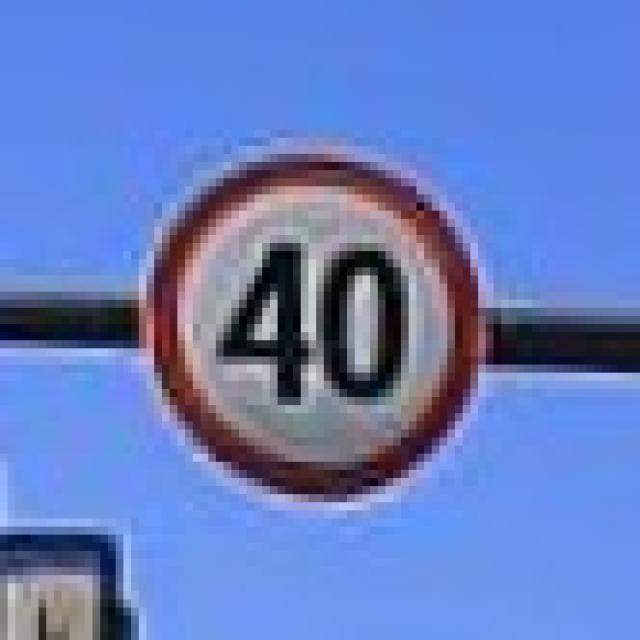Speed Limit -40-: (216, 238, 414, 409)
